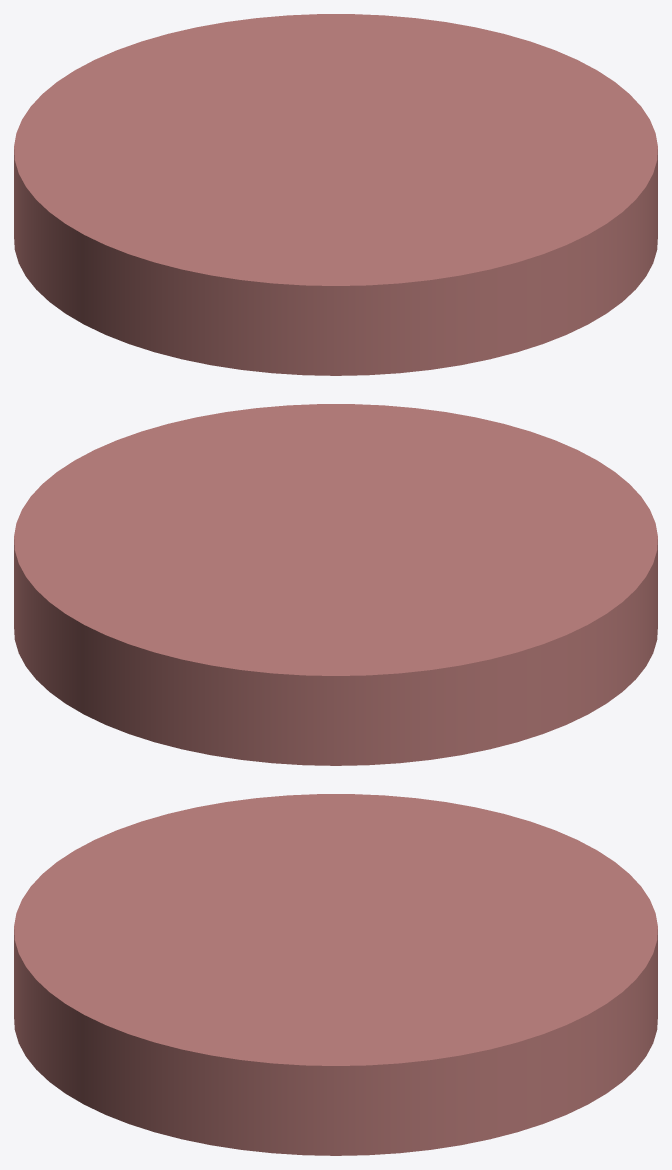
File: step_01.glb
3 views of the same model, one above another, from view 1: azimuth 30°, elevation 25°; view 2: azimuth 150°, elevation 25°; view 3: azimuth 270°, elevation 25° (orthographic).
Visible parts, largest first — view 1: part__ring gear; view 2: part__ring gear; view 3: part__ring gear.
Part boxes in pixels (x1,y1,x2,y2): part__ring gear: [14, 14, 657, 375]; part__ring gear: [14, 404, 657, 765]; part__ring gear: [14, 794, 657, 1155].
Size of the model in its own units: 64.96 by 10 by 64.98.
